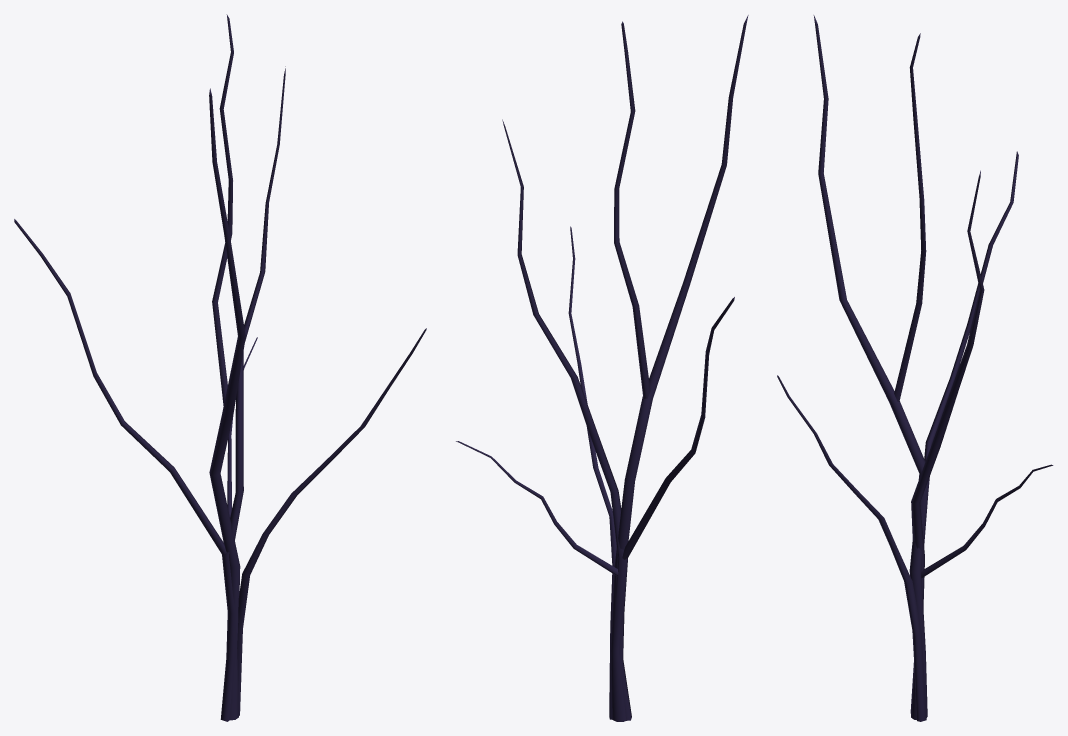
The model's file is cmc_baresevenson.fbx.
3 renders of one model, left to right at view 1: azimuth 30°, elevation 25°; view 2: azimuth 150°, elevation 25°; view 3: azimuth 270°, elevation 25°, orthographic. The views are drawn at different scales.
Parts seen in each view (by area): view 1: bare_seven_tree_LOD0; view 2: bare_seven_tree_LOD0; view 3: bare_seven_tree_LOD0.
Boxes of the visible parts, x1=… form: bare_seven_tree_LOD0: x1=14, y1=14, x2=426, y2=721; bare_seven_tree_LOD0: x1=456, y1=15, x2=748, y2=721; bare_seven_tree_LOD0: x1=777, y1=15, x2=1053, y2=721.
Size of what is drawn, in the model's own units: 3.12 by 7.25 by 2.66.
